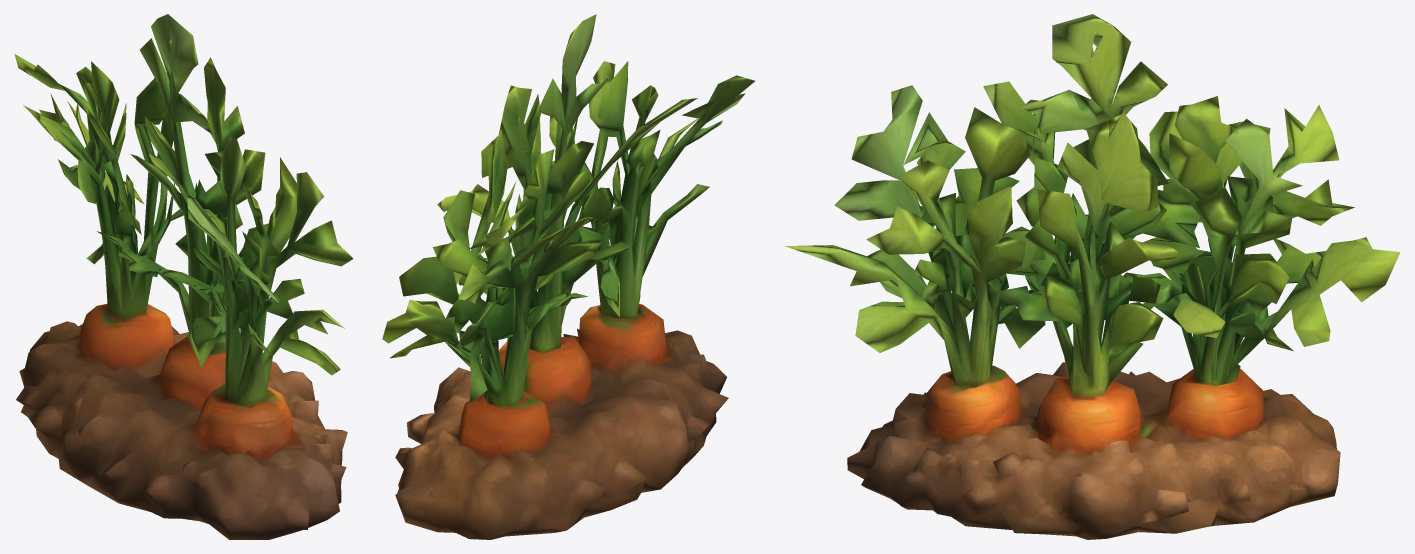
File: carottes-mures.glb
3 renders of one model, left to right at view 1: azimuth 30°, elevation 25°; view 2: azimuth 150°, elevation 25°; view 3: azimuth 270°, elevation 25°, orthographic. The views are drawn at different scales.
Parts seen in each view (by area): view 1: tripo_node_938f5ab8-09fe-4c14-9c94-993bd3c1124a; view 2: tripo_node_938f5ab8-09fe-4c14-9c94-993bd3c1124a; view 3: tripo_node_938f5ab8-09fe-4c14-9c94-993bd3c1124a.
Boxes of the visible parts, x1,y1,x2,y2 form: tripo_node_938f5ab8-09fe-4c14-9c94-993bd3c1124a: [14, 14, 353, 539]; tripo_node_938f5ab8-09fe-4c14-9c94-993bd3c1124a: [382, 14, 754, 539]; tripo_node_938f5ab8-09fe-4c14-9c94-993bd3c1124a: [785, 14, 1400, 539].
Size of the model in its own units: 0.4818 by 0.8548 by 1.
1 material, 1 textured.
